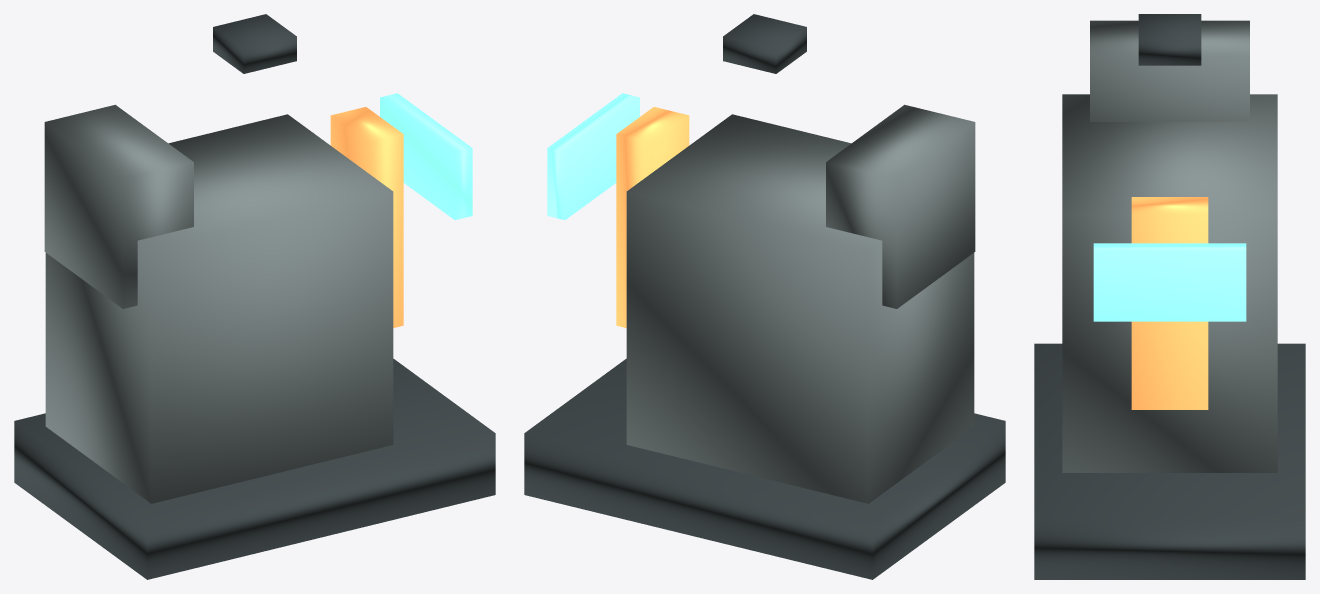
File: jovian-harvester-storm-bus-isolator-lod1.glb
3 renders of one model, left to right at view 1: azimuth 30°, elevation 25°; view 2: azimuth 150°, elevation 25°; view 3: azimuth 270°, elevation 25°, orthographic.
Visible parts, largest first — view 1: jovian-harvester-storm-bus-isolator-bank, jovian-harvester-storm-bus-isolator-base, jovian-harvester-storm-bus-isolator-capacitor, jovian-harvester-interactable-status, jovian-harvester-storm-bus-isolator-knife, objective-beacon-mount; view 2: jovian-harvester-storm-bus-isolator-bank, jovian-harvester-storm-bus-isolator-base, jovian-harvester-storm-bus-isolator-capacitor, jovian-harvester-interactable-status, jovian-harvester-storm-bus-isolator-knife, objective-beacon-mount; view 3: jovian-harvester-storm-bus-isolator-bank, jovian-harvester-storm-bus-isolator-base, jovian-harvester-storm-bus-isolator-capacitor, jovian-harvester-interactable-status, jovian-harvester-storm-bus-isolator-knife, objective-beacon-mount.
Part boxes in pixels (x1=…): jovian-harvester-storm-bus-isolator-bank: x1=45, y1=114, x2=393, y2=503; jovian-harvester-storm-bus-isolator-base: x1=14, y1=358, x2=495, y2=579; jovian-harvester-storm-bus-isolator-capacitor: x1=44, y1=104, x2=193, y2=308; jovian-harvester-interactable-status: x1=380, y1=93, x2=472, y2=219; jovian-harvester-storm-bus-isolator-knife: x1=330, y1=107, x2=403, y2=327; objective-beacon-mount: x1=213, y1=14, x2=296, y2=73; jovian-harvester-storm-bus-isolator-bank: x1=626, y1=114, x2=974, y2=503; jovian-harvester-storm-bus-isolator-base: x1=524, y1=358, x2=1005, y2=579; jovian-harvester-storm-bus-isolator-capacitor: x1=826, y1=104, x2=975, y2=308; jovian-harvester-interactable-status: x1=547, y1=93, x2=639, y2=219; jovian-harvester-storm-bus-isolator-knife: x1=616, y1=107, x2=689, y2=327; objective-beacon-mount: x1=723, y1=14, x2=806, y2=73; jovian-harvester-storm-bus-isolator-bank: x1=1062, y1=94, x2=1277, y2=472; jovian-harvester-storm-bus-isolator-base: x1=1034, y1=343, x2=1305, y2=579; jovian-harvester-storm-bus-isolator-capacitor: x1=1090, y1=20, x2=1249, y2=121; jovian-harvester-interactable-status: x1=1093, y1=243, x2=1246, y2=321; jovian-harvester-storm-bus-isolator-knife: x1=1131, y1=197, x2=1208, y2=409; objective-beacon-mount: x1=1138, y1=14, x2=1201, y2=65.
Bounding box in the file's own units: 1.2 × 1.48 × 0.78.
